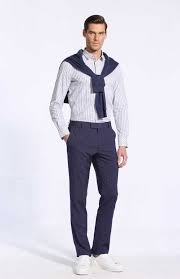F_shirt: (49, 52, 134, 150)
